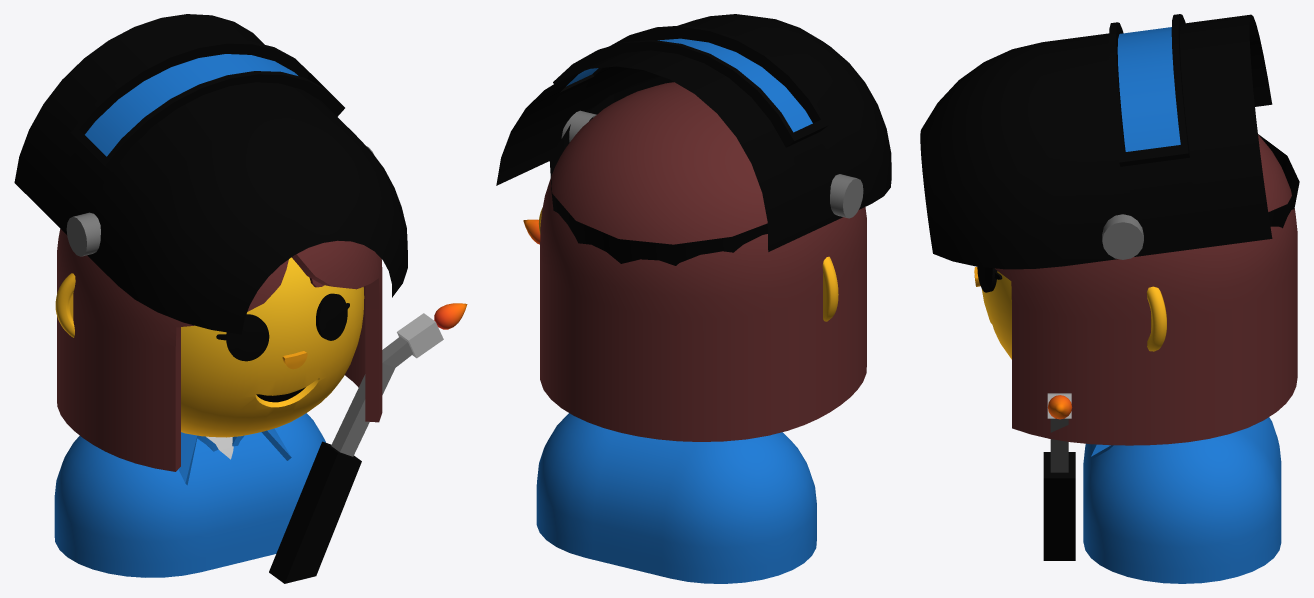
File: woman_factory_worker.glb
The picture shows the model from 3 angles, left to right: view 1: azimuth 30°, elevation 25°; view 2: azimuth 150°, elevation 25°; view 3: azimuth 270°, elevation 25°; orthographic projection.
Parts seen in each view (by area): view 1: Sphere.068, Sphere.067, Roundcube.107, Roundcube.106, Cube.1325, Circle.647, Circle.651, Plane.052, Cylinder.093, Sphere.069; view 2: Roundcube.107, Sphere.068, Sphere.067, Circle.650, Circle.651, Cylinder.093; view 3: Sphere.068, Roundcube.107, Sphere.067, Cube.1325, Circle.651, Roundcube.106, Circle.650, Cylinder.093.
Boxes of the visible parts, left/top/right/bottom form: Sphere.068: left=14, top=14, right=407, bottom=334; Sphere.067: left=54, top=413, right=325, bottom=577; Roundcube.107: left=57, top=229, right=382, bottom=471; Roundcube.106: left=181, top=257, right=364, bottom=437; Cube.1325: left=269, top=313, right=443, bottom=583; Circle.647: left=226, top=293, right=347, bottom=361; Circle.651: left=66, top=146, right=373, bottom=256; Plane.052: left=178, top=428, right=291, bottom=485; Cylinder.093: left=55, top=273, right=75, bottom=337; Sphere.069: left=434, top=303, right=467, bottom=329; Roundcube.107: left=540, top=82, right=866, bottom=441; Sphere.068: left=496, top=14, right=891, bottom=251; Sphere.067: left=536, top=413, right=816, bottom=583; Circle.650: left=549, top=76, right=767, bottom=265; Circle.651: left=561, top=110, right=863, bottom=218; Cylinder.093: left=538, top=208, right=838, bottom=321; Sphere.068: left=920, top=14, right=1272, bottom=269; Roundcube.107: left=995, top=134, right=1297, bottom=445; Sphere.067: left=1083, top=417, right=1281, bottom=583; Cube.1325: left=1043, top=393, right=1075, bottom=560; Circle.651: left=1102, top=214, right=1143, bottom=259; Roundcube.106: left=982, top=271, right=1011, bottom=359; Circle.650: left=1258, top=134, right=1299, bottom=228; Cylinder.093: left=1146, top=286, right=1166, bottom=351.
Bounding box in the file's own units: 2.05 × 2.69 × 1.83.
Materials: 1 (1 with a texture image).
